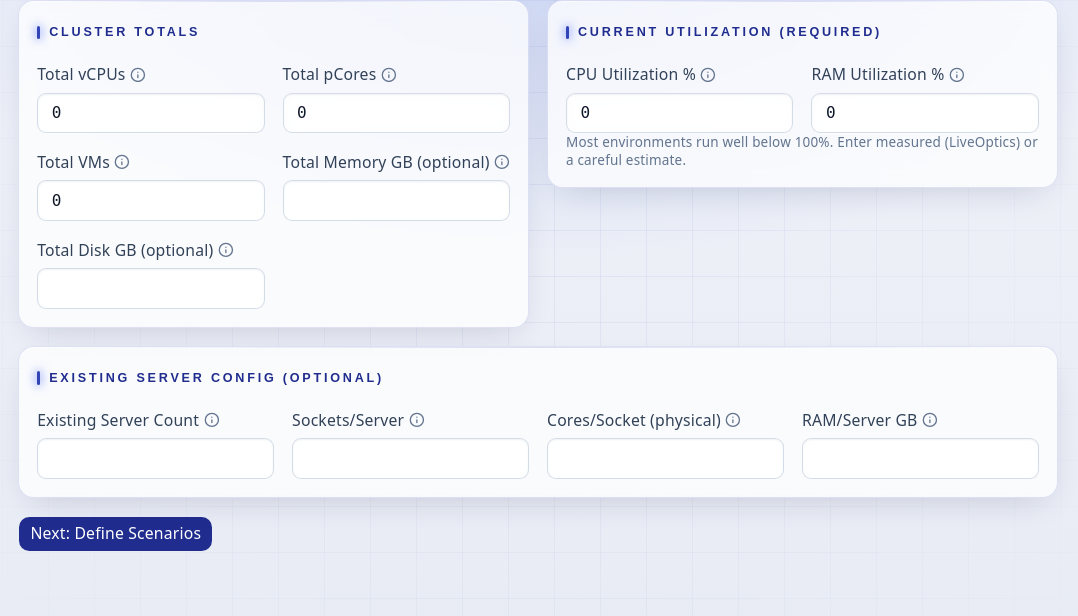
Test: CurrentClusterForm › SC-4: utilization percent fields › does NOT commit / advance when totals are filled but utilization is empty
# Fill required totals but leave utilization empty
Replace the text in the number field with test id "input-totalVcpus" with "100" at (151, 113), box [37, 92, 265, 133]
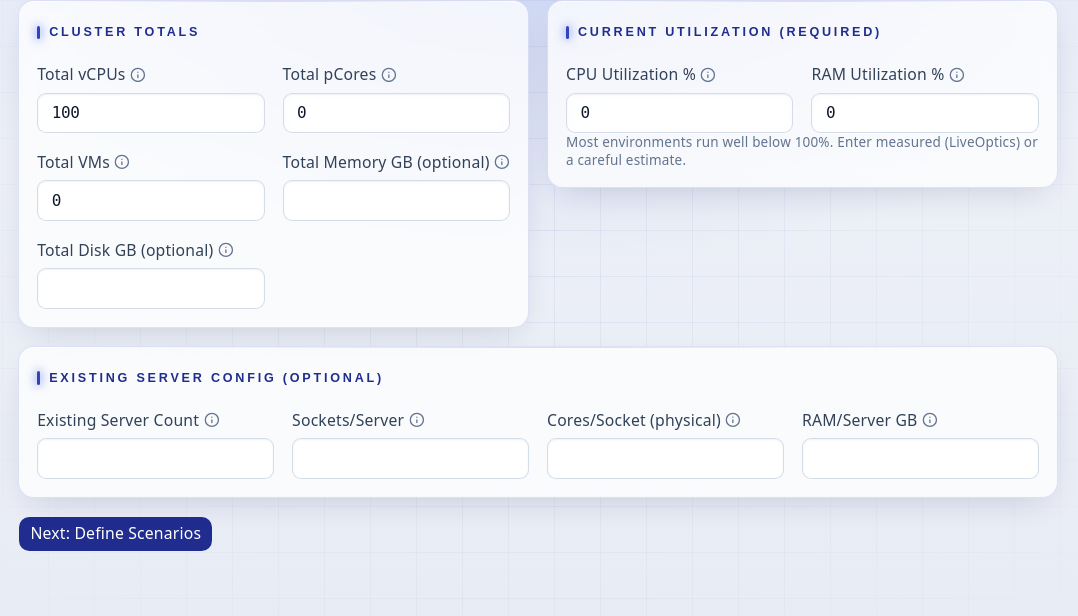
Replace the text in the number field with test id "input-totalPcores" with "50" at (396, 113), box [283, 92, 510, 133]
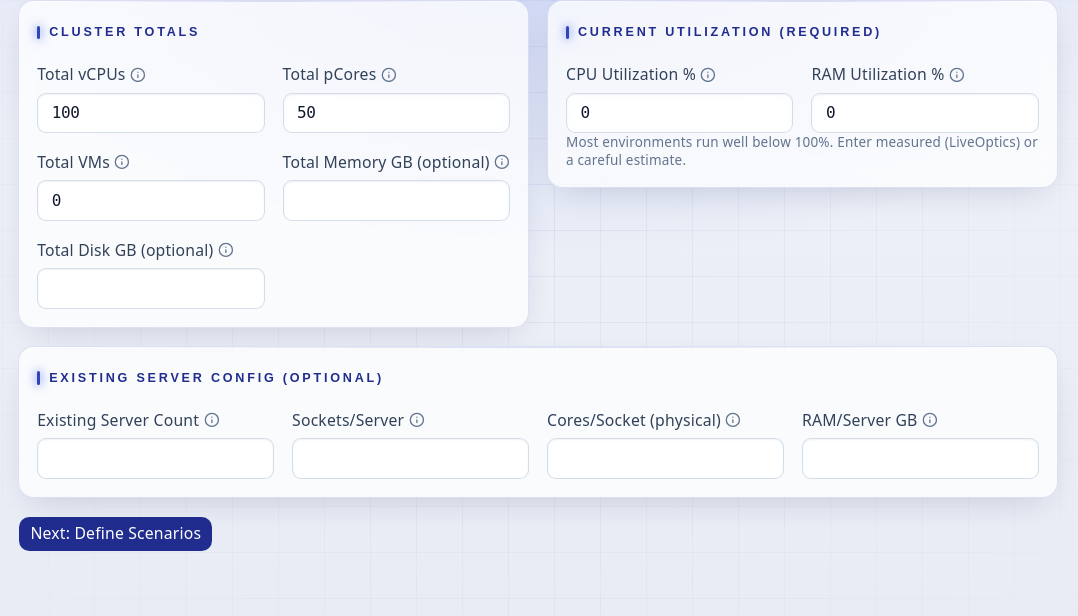
Replace the text in the number field with test id "input-totalVms" with "20" at (151, 201), box [37, 180, 265, 221]
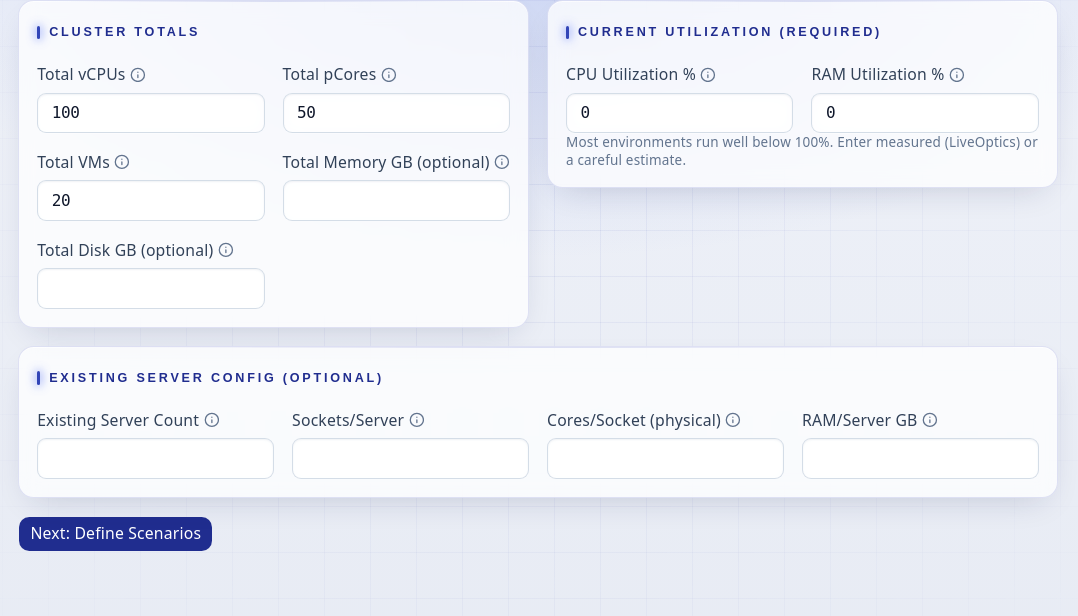
Click the button "Next: Define Scenarios".
click(116, 534)  # box [18, 516, 213, 552]
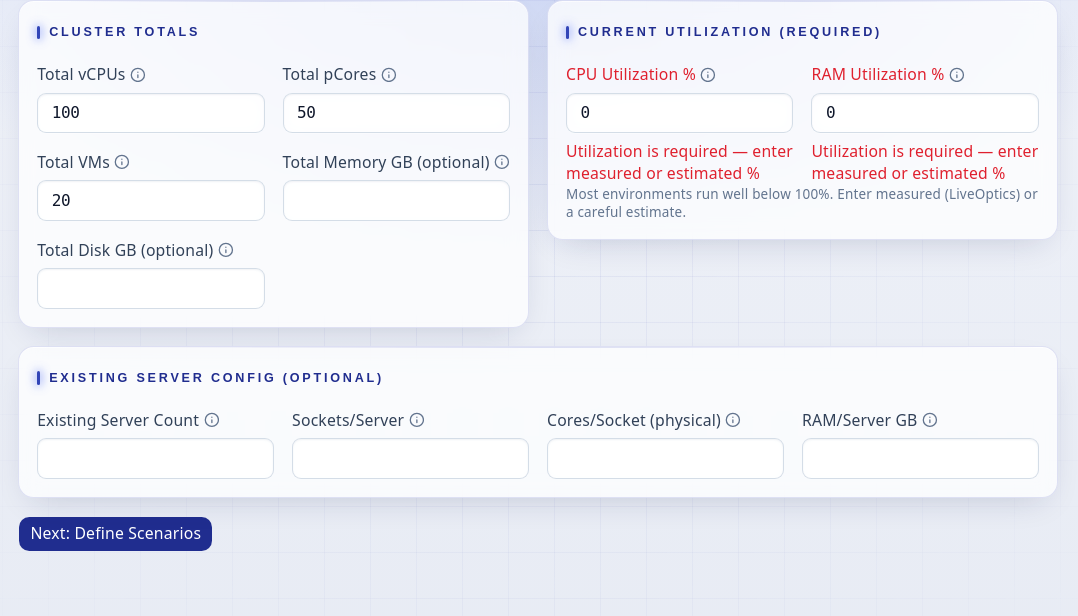
Check: the text "Utilization is required — enter measured or estimated %" below "CPU Utilization %" is shown, box [566, 140, 793, 184]
